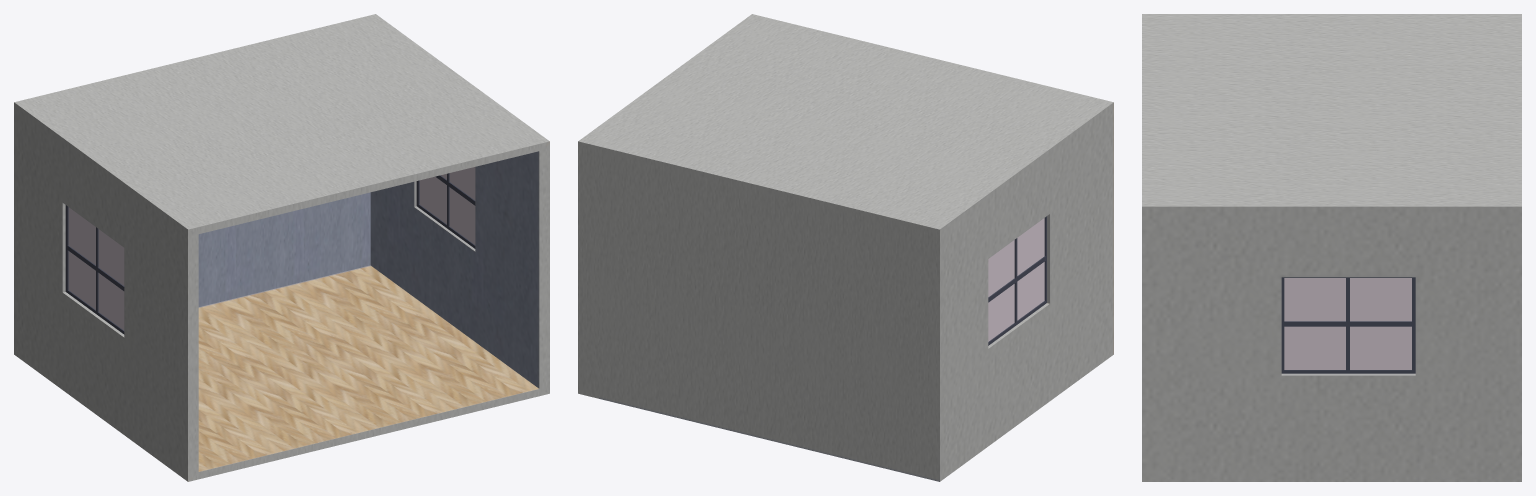
The model's file is House.fbx.
3 renders of one model, left to right at view 1: azimuth 30°, elevation 25°; view 2: azimuth 150°, elevation 25°; view 3: azimuth 270°, elevation 25°, orthographic. The views are drawn at different scales.
Parts seen in each view (by area): view 1: Meter; view 2: Meter; view 3: Meter.
Part boxes in pixels (box(x1,y1,x2,y2)): Meter: box(14, 14, 549, 481); Meter: box(578, 14, 1113, 481); Meter: box(1142, 14, 1521, 481).
Bounding box in the file's own units: 366 × 244 × 305.
